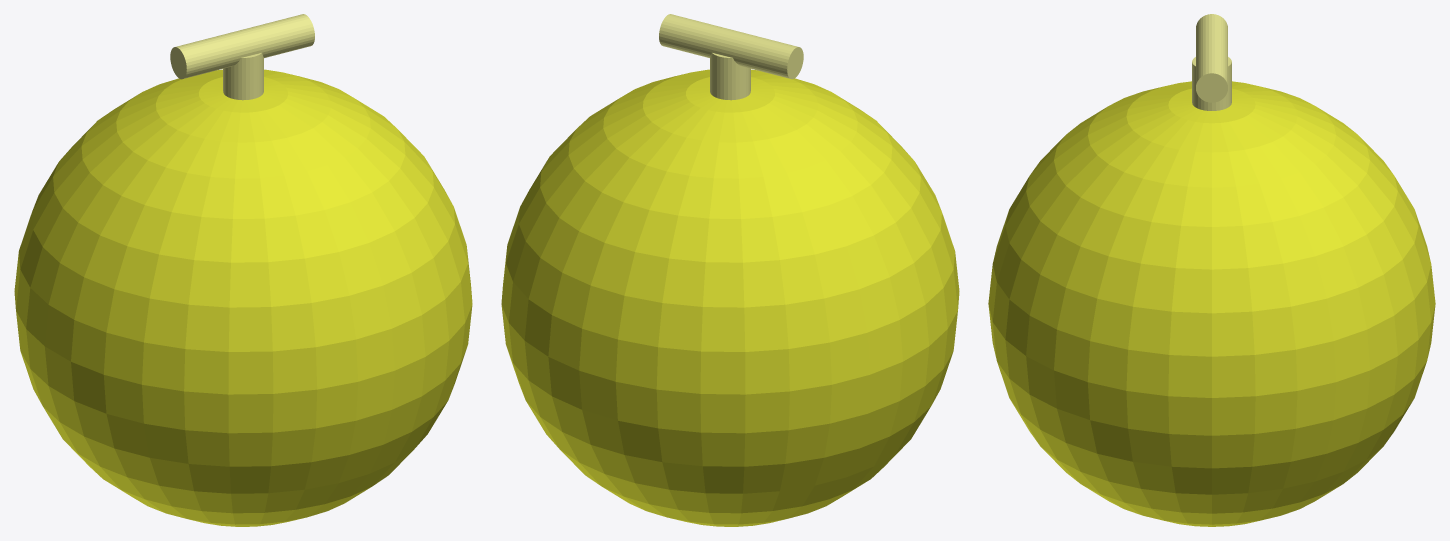
The model's file is goldkudamono.fbx.
The picture shows the model from 3 angles, left to right: view 1: azimuth 30°, elevation 25°; view 2: azimuth 150°, elevation 25°; view 3: azimuth 270°, elevation 25°; orthographic projection. The views are drawn at different scales.
Parts seen in each view (by area): view 1: 球, 円柱; view 2: 球, 円柱; view 3: 球, 円柱.
Part boxes in pixels (box(x1,y1,x2,y2)): 球: box(14, 69, 472, 526); 円柱: box(170, 14, 314, 100); 球: box(501, 69, 959, 526); 円柱: box(659, 14, 803, 100); 球: box(988, 81, 1435, 526); 円柱: box(1192, 14, 1231, 110).
Size of the model in its own units: 200 by 200 by 228.
